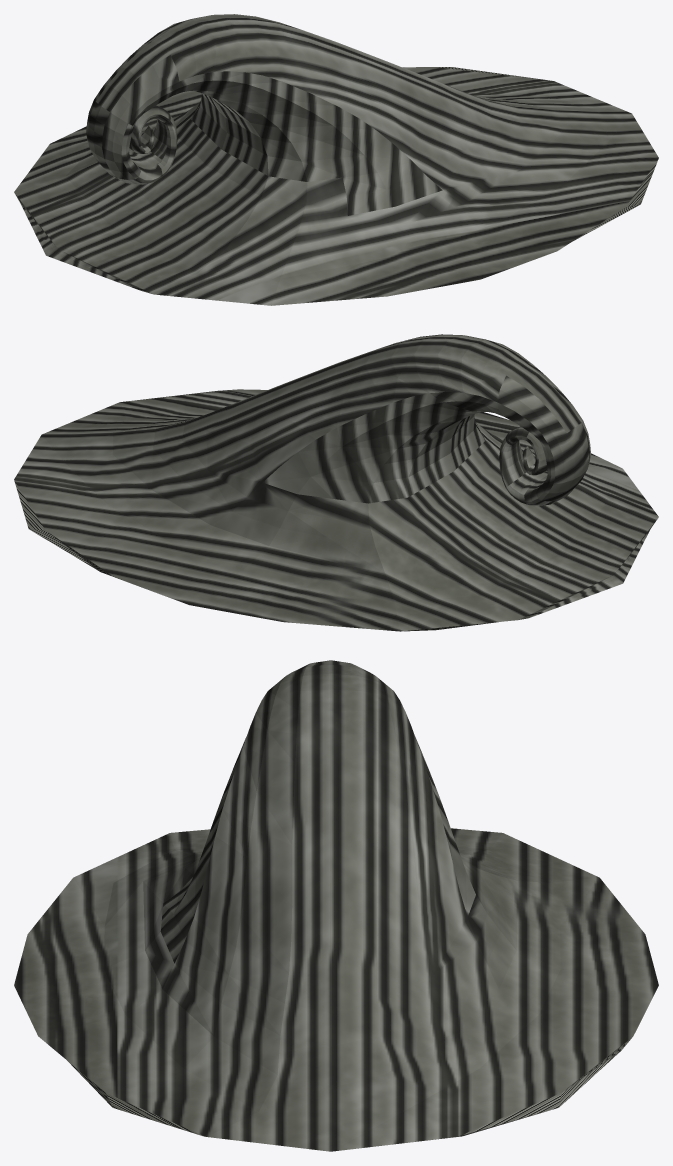
File: hill.obj
3 views of the same model, one above another, from view 1: azimuth 30°, elevation 25°; view 2: azimuth 150°, elevation 25°; view 3: azimuth 270°, elevation 25° (orthographic). The views are drawn at different scales.
Parts seen in each view (by area): view 1: Plane_Plane.003; view 2: Plane_Plane.003; view 3: Plane_Plane.003.
Boxes of the visible parts, x1,y1,x2,y2 form: Plane_Plane.003: [14, 14, 658, 305]; Plane_Plane.003: [14, 334, 658, 631]; Plane_Plane.003: [14, 660, 658, 1151].
Size of the model in its own units: 5.28 by 1.72 by 4.26.
1 material, 1 textured.
